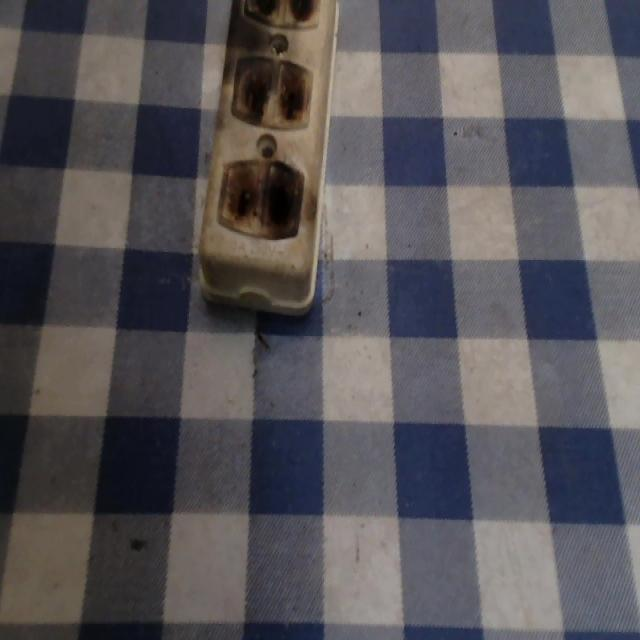-: (214, 155, 302, 237), (228, 53, 312, 132), (239, 0, 320, 31)
